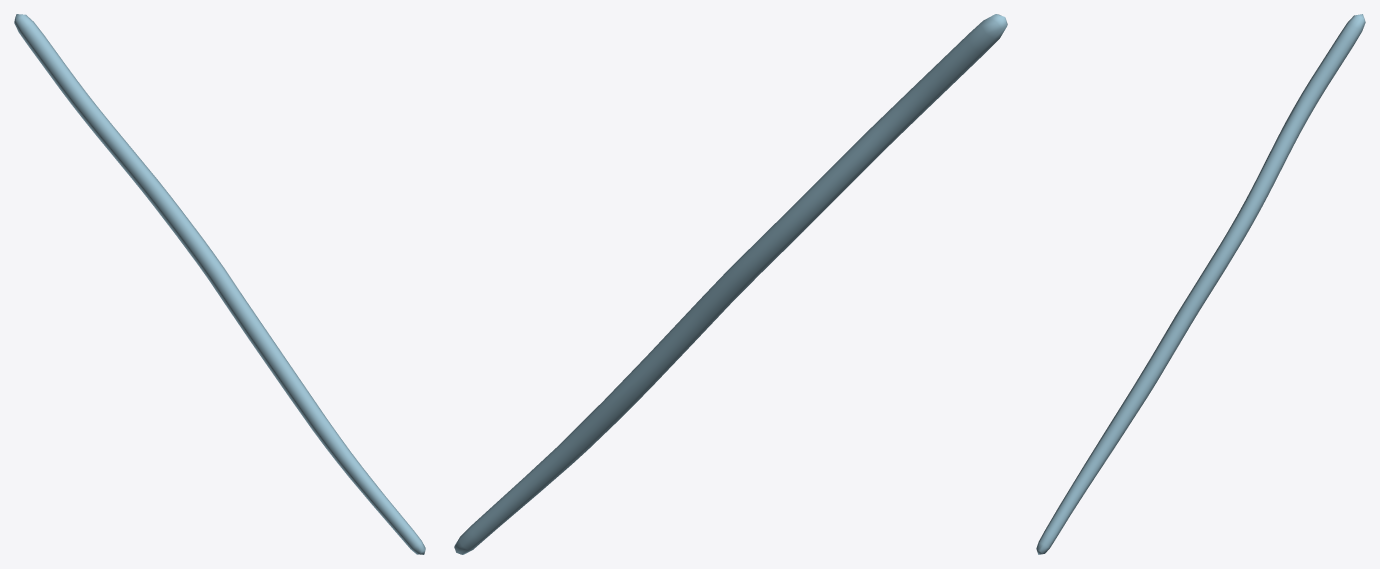
Rendered from articulacoes-stylohyoid-ligament-r.glb.
The picture shows the model from 3 angles, left to right: view 1: azimuth 30°, elevation 25°; view 2: azimuth 210°, elevation 25°; view 3: azimuth 270°, elevation 25°; orthographic projection. The views are drawn at different scales.
Parts seen in each view (by area): view 1: Stylohyoid ligament.r; view 2: Stylohyoid ligament.r; view 3: Stylohyoid ligament.r.
Boxes of the visible parts, x1=… form: Stylohyoid ligament.r: x1=14, y1=14, x2=425, y2=554; Stylohyoid ligament.r: x1=454, y1=14, x2=1007, y2=554; Stylohyoid ligament.r: x1=1036, y1=14, x2=1365, y2=554.
Size of the model in its own units: 0.0249 by 0.047 by 0.0321.
